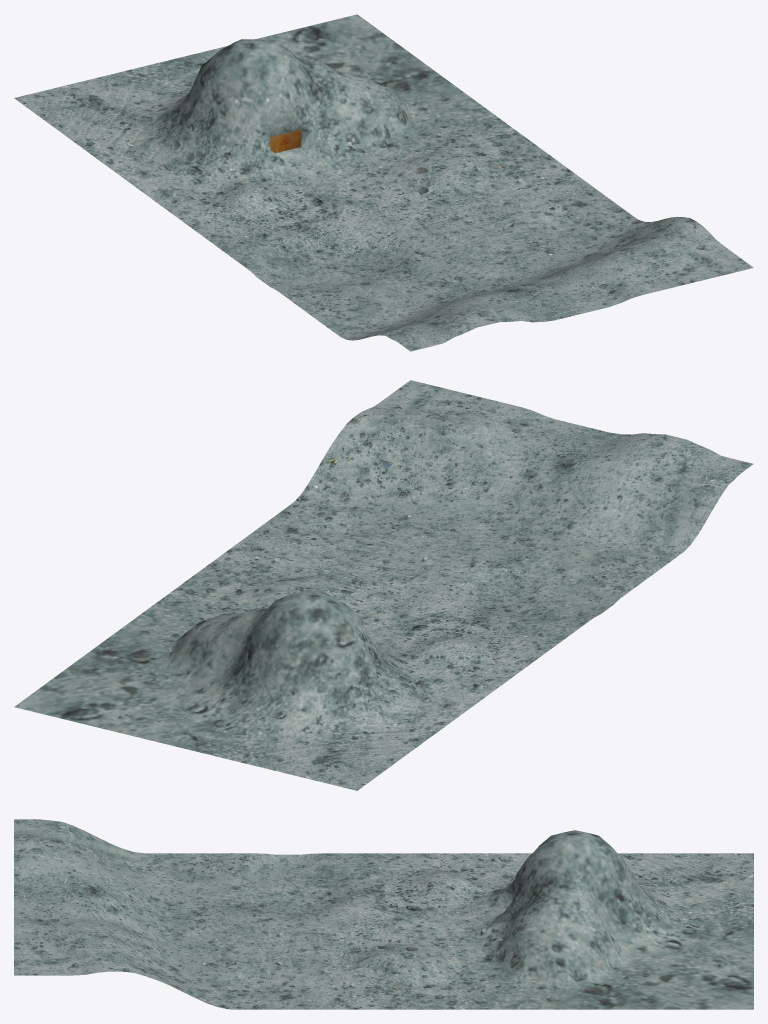
The model's file is landscape.obj.
The picture shows the model from 3 angles, top to bottom: view 1: azimuth 30°, elevation 25°; view 2: azimuth 150°, elevation 25°; view 3: azimuth 270°, elevation 25°; orthographic projection. The views are drawn at different scales.
Parts seen in each view (by area): view 1: Grid; view 2: Grid; view 3: Grid.
Part boxes in pixels (<box>): Grid: <box>14,14,753,351</box>; Grid: <box>14,380,753,790</box>; Grid: <box>14,819,753,1009</box>.
Size of the model in its own units: 4 by 1.09 by 8.
